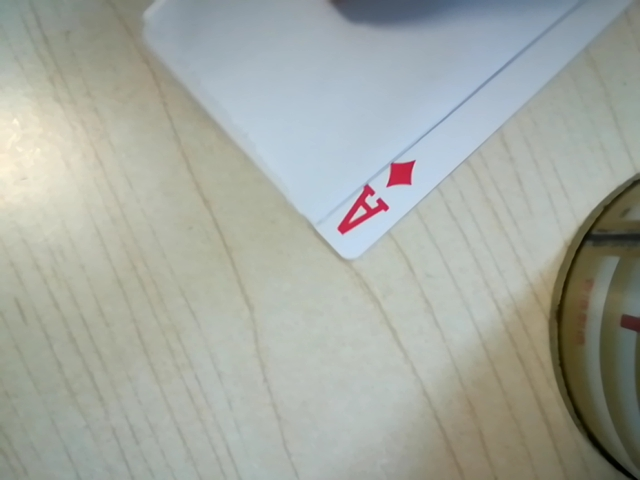fk a: (325, 153, 422, 245)
